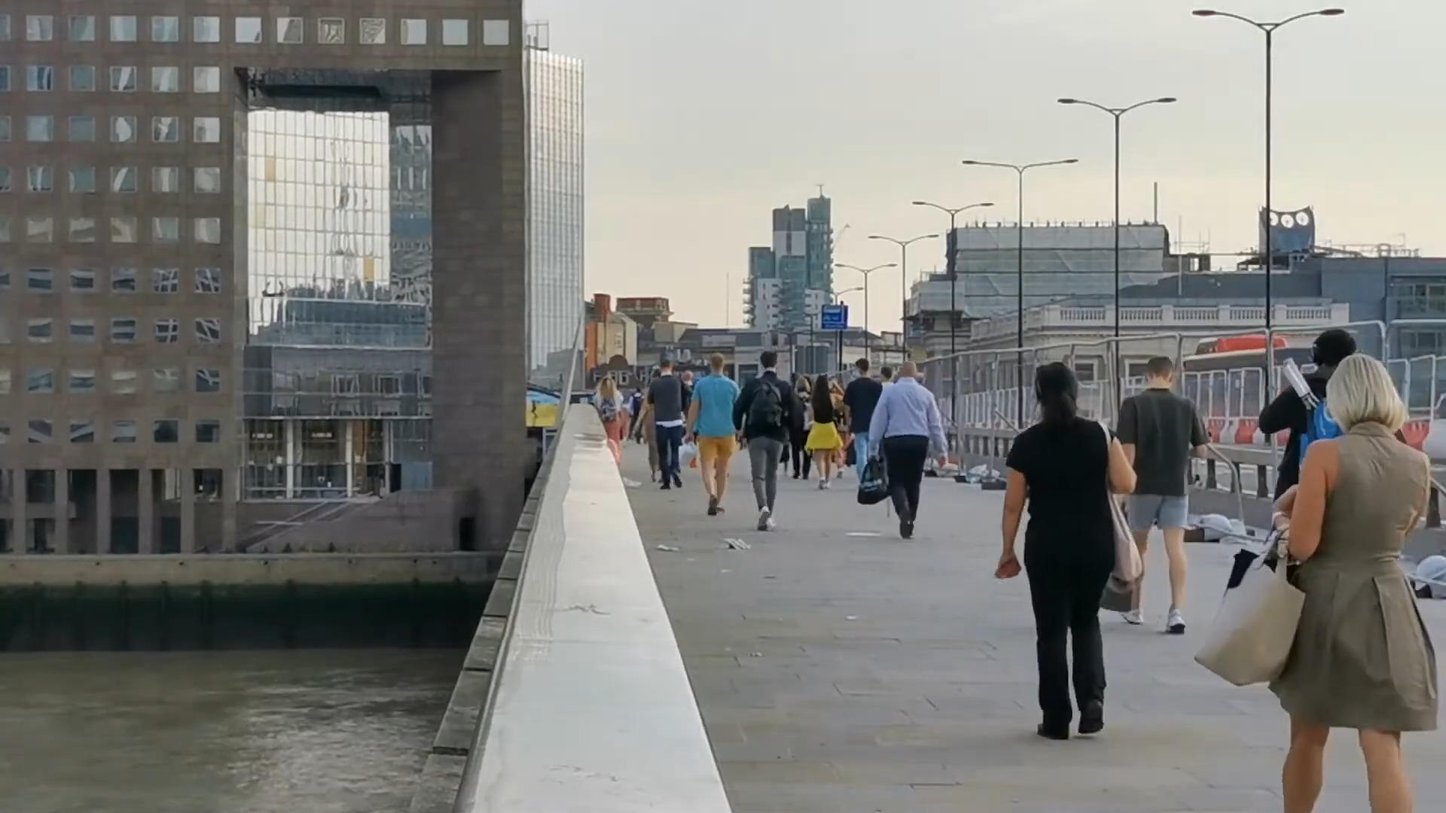no-helmet: (1328, 354, 1405, 436), (1034, 360, 1079, 441), (1307, 328, 1357, 370), (1144, 357, 1176, 390), (813, 374, 830, 399), (898, 361, 918, 380), (760, 351, 779, 371), (597, 376, 616, 393), (710, 353, 724, 373), (855, 358, 868, 378), (660, 359, 671, 373)
